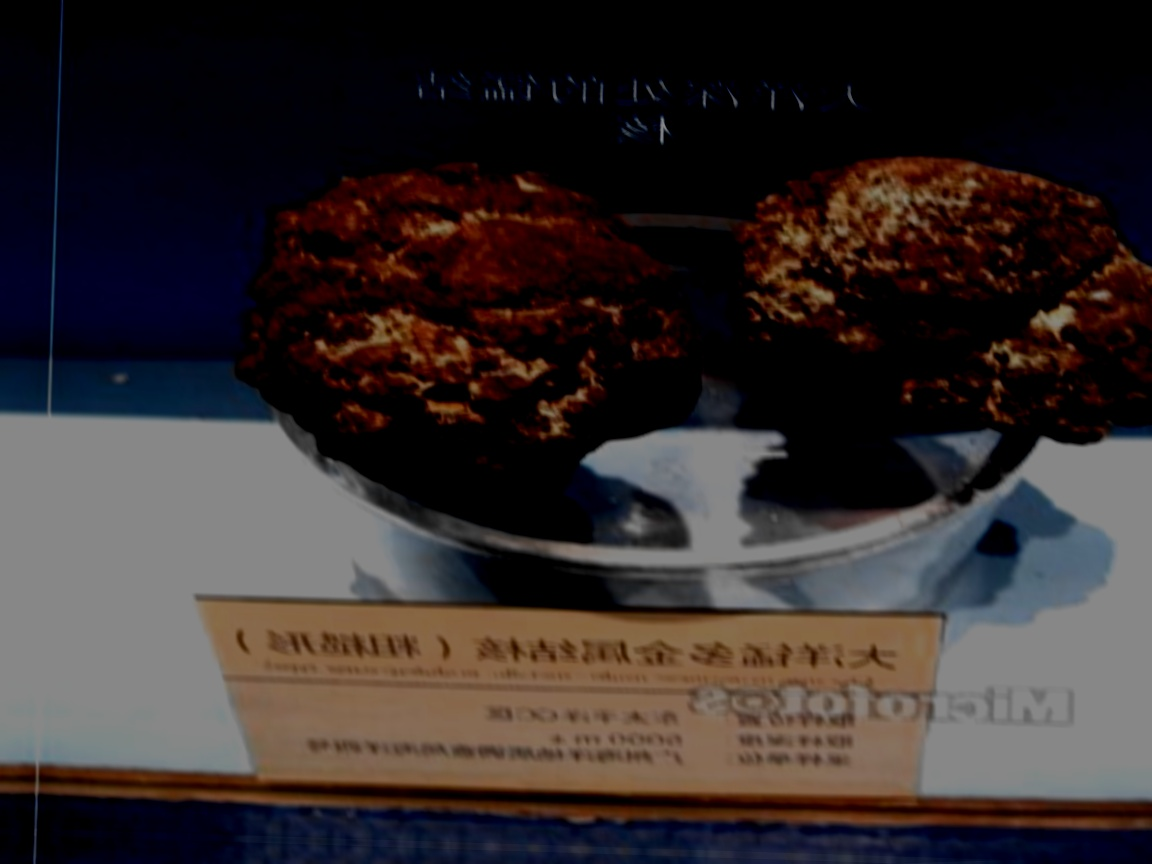halobolite: (251, 148, 713, 501), (711, 144, 1152, 453)
